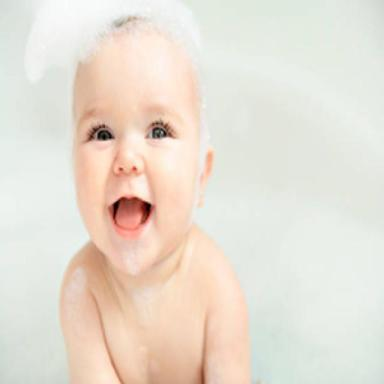normal skin: (61, 25, 250, 384)
